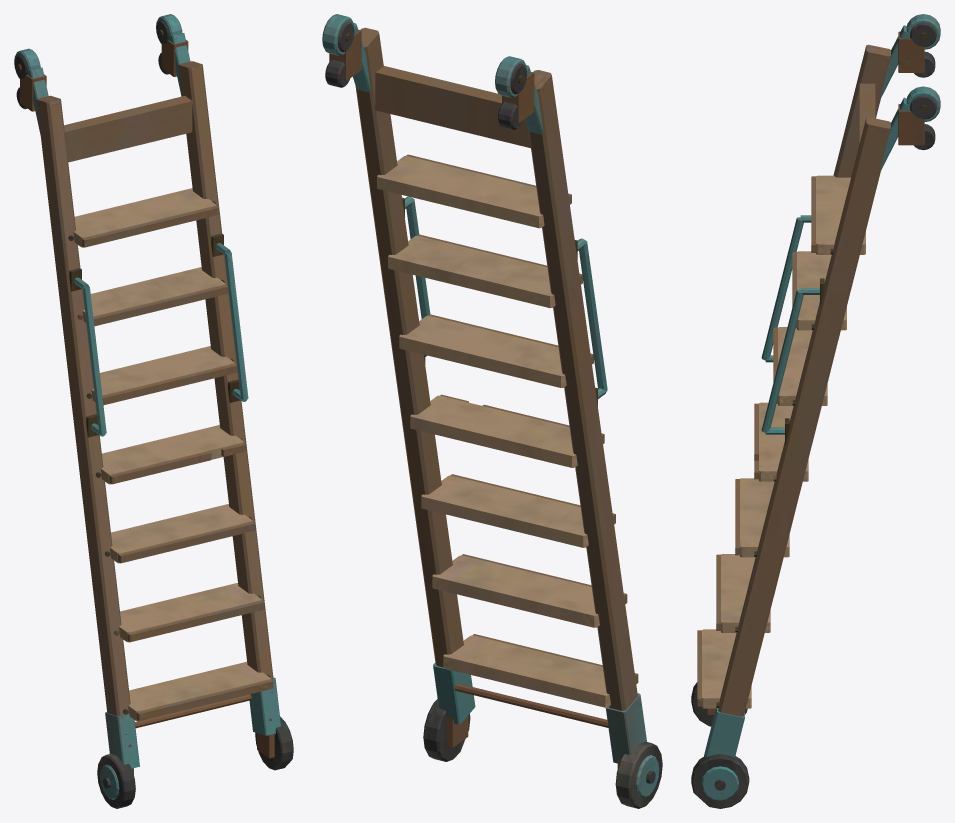
The model's file is Q14_library_ladder.glb.
The picture shows the model from 3 angles, left to right: view 1: azimuth 30°, elevation 25°; view 2: azimuth 150°, elevation 25°; view 3: azimuth 270°, elevation 25°; orthographic projection. The views are drawn at different scales.
Parts seen in each view (by area): view 1: Rolling library ladder; view 2: Rolling library ladder; view 3: Rolling library ladder.
Part boxes in pixels (x1,y1,x2,y2): Rolling library ladder: (14, 14, 293, 808); Rolling library ladder: (322, 14, 662, 808); Rolling library ladder: (691, 14, 940, 808).
Size of the model in its own units: 0.69 by 2.5 by 0.792.
Materials: 7 (7 with a texture image).
